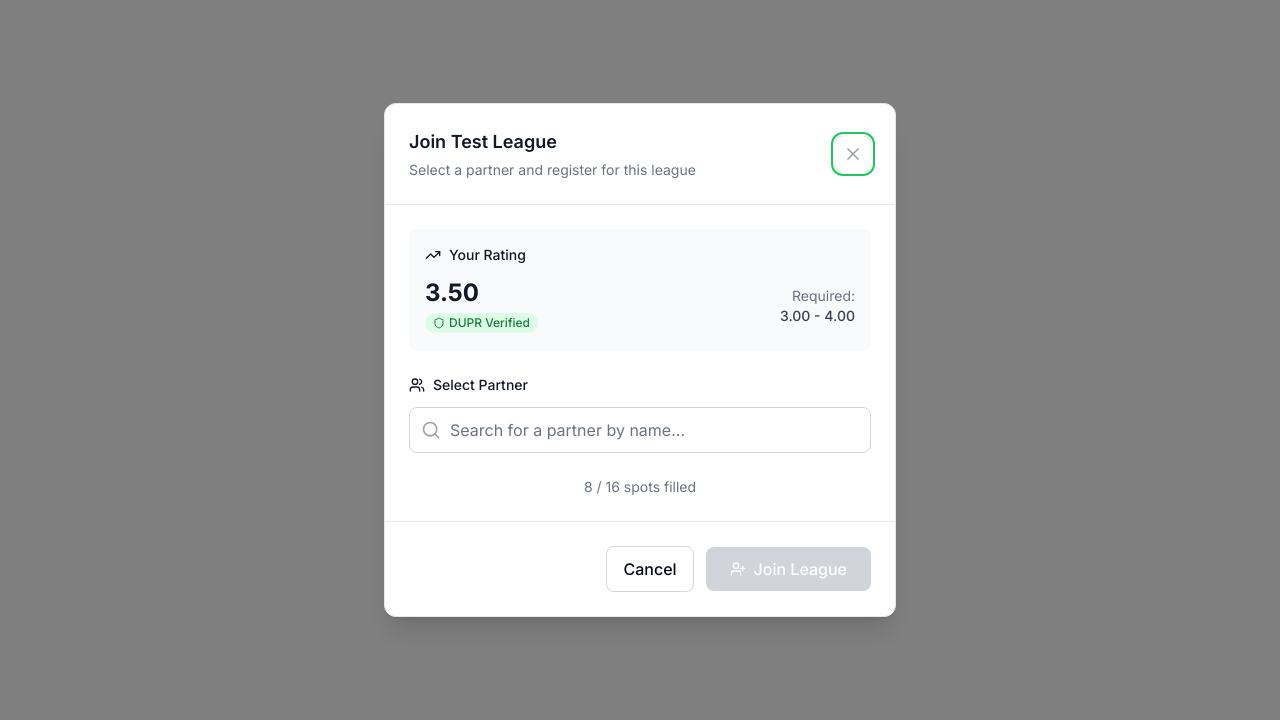
LeagueRegistrationModal › partner search › should select partner when clicked
In the field with placeholder "Search for a partner by name...": (640, 430) x1=409 y1=407 x2=871 y2=453, type "jo"
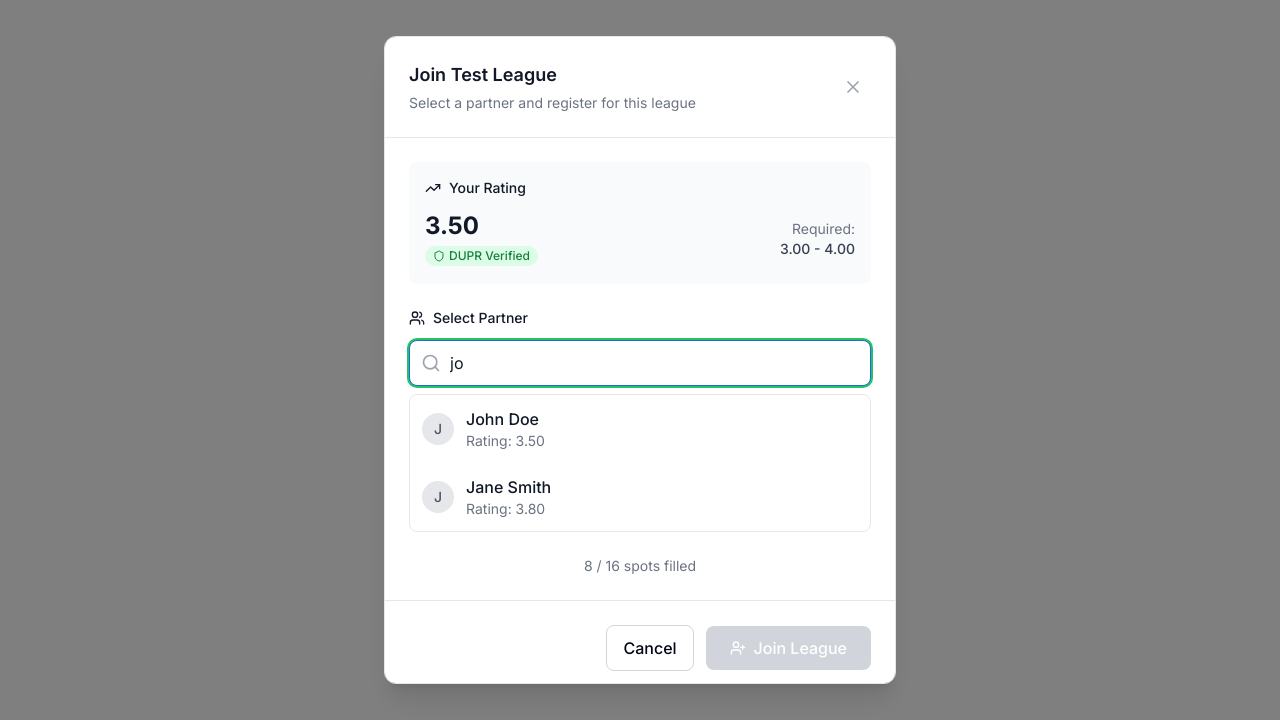
Check: the text "John Doe" is shown
Click the text "John Doe": (502, 419) x1=466 y1=409 x2=539 y2=429
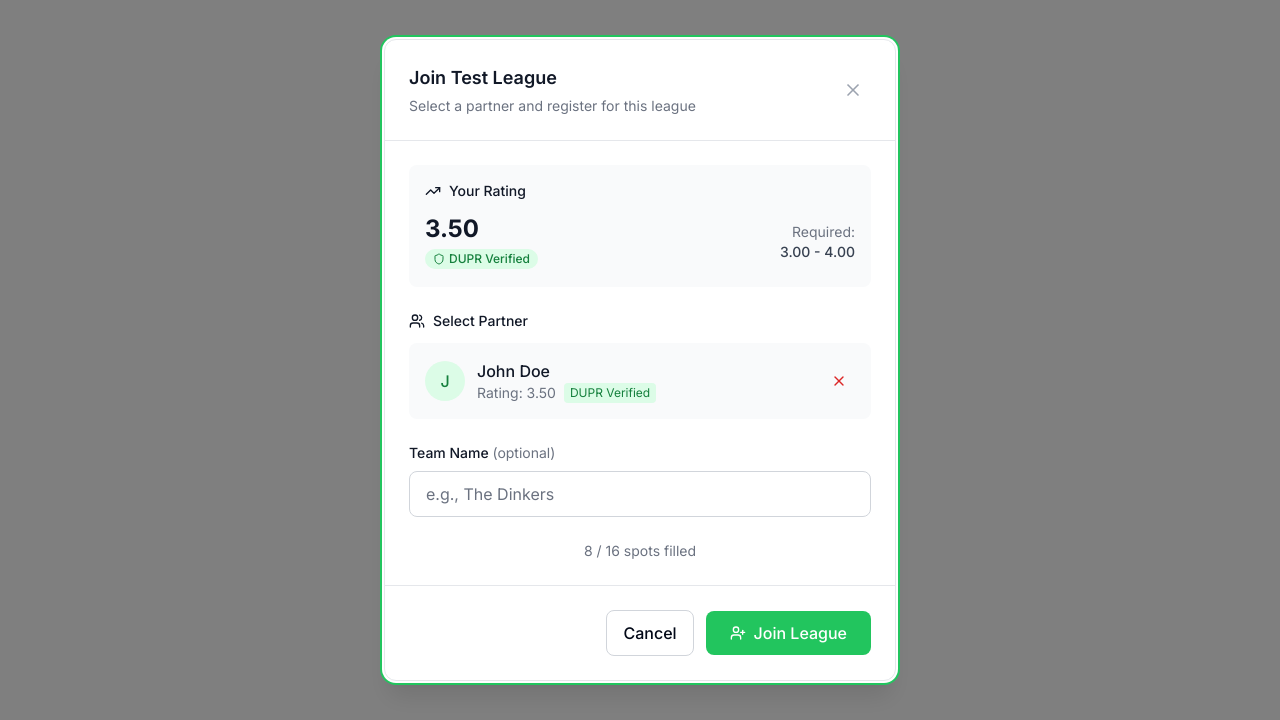
Check: the field with placeholder "Search for a partner by name..." is not shown
Check: the button named "remove partner" is shown, box x1=823 y1=365 x2=855 y2=397
